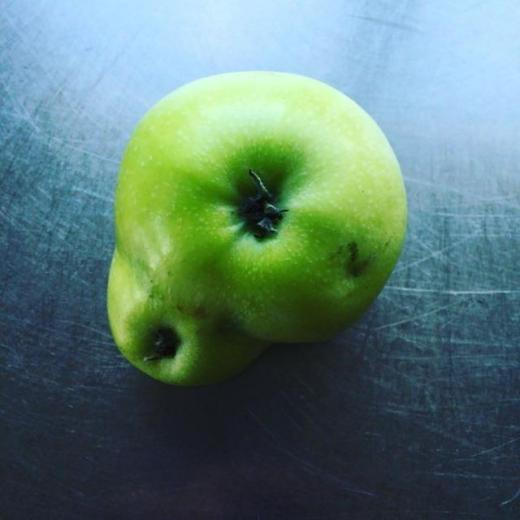Apple: (112, 72, 408, 342), (106, 260, 271, 386)
